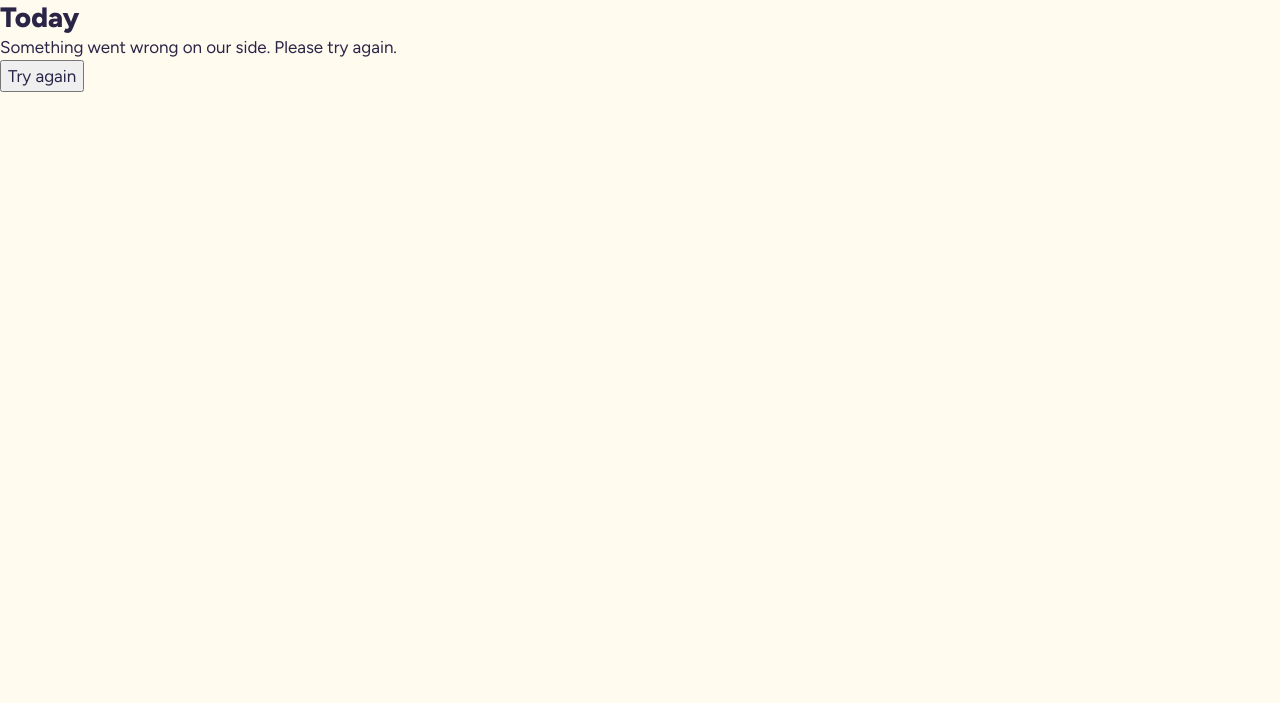
Test case: TodayPage › loads, fails with retry, then recovers
Later steps or results of the test are not shown.
Click the button "Try again" at point(42, 76), box [0,60,84,92]
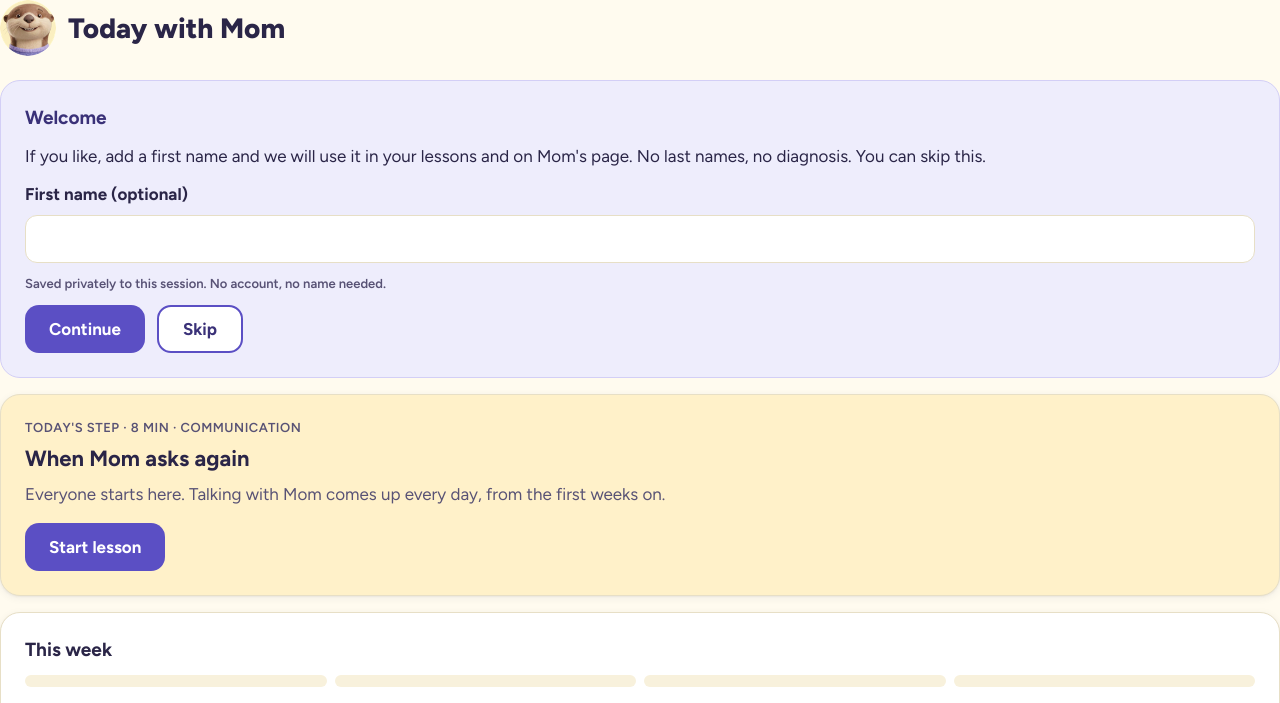
Expected: the heading "Today with Mom" is shown, [68,11,285,45]
